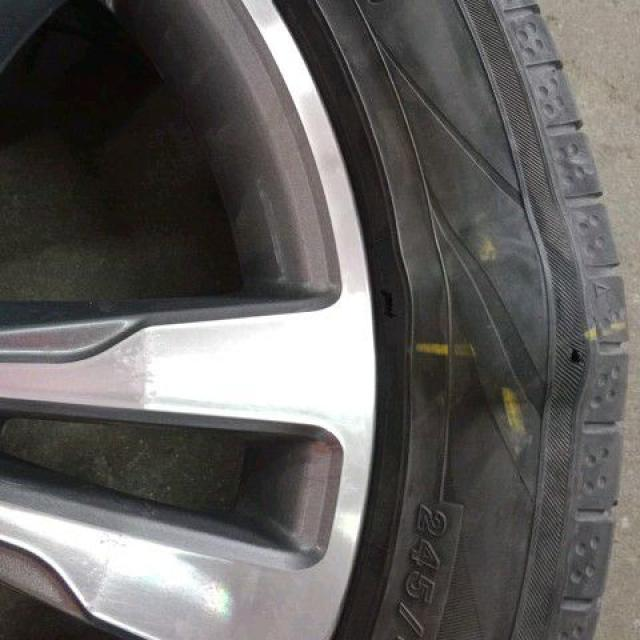Bulge: (428, 243, 606, 427)
